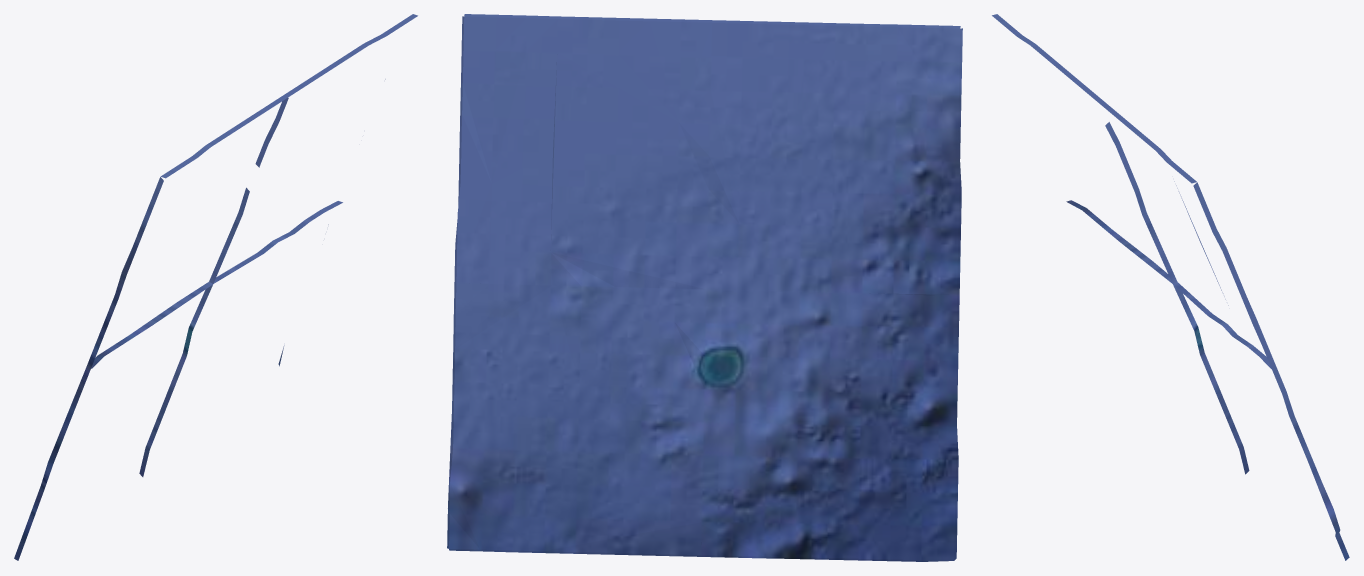
3 renders of one model, left to right at view 1: azimuth 30°, elevation 25°; view 2: azimuth 150°, elevation 25°; view 3: azimuth 270°, elevation 25°, orthographic. The views are drawn at different scales.
Size of the model in its own units: 313923 by 296186 by 234132.
1 material, 1 textured.
